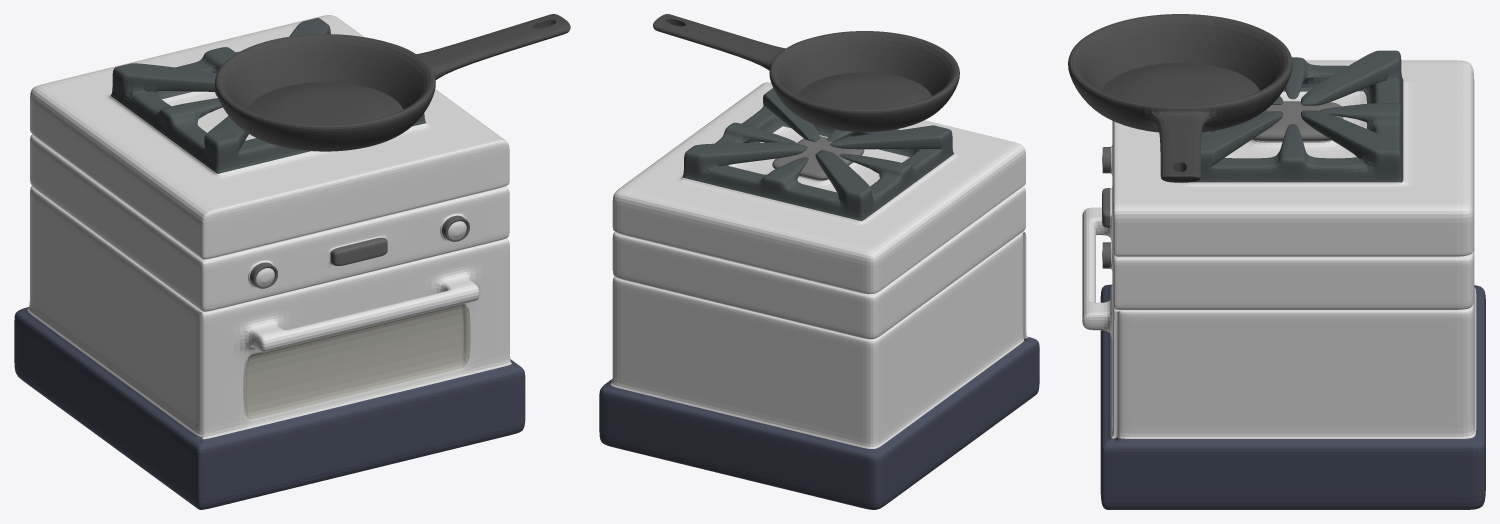
The model's file is Gas_range_frypan(ani).fbx.
3 renders of one model, left to right at view 1: azimuth 30°, elevation 25°; view 2: azimuth 150°, elevation 25°; view 3: azimuth 270°, elevation 25°, orthographic. The views are drawn at different scales.
Visible parts, largest first — view 1: 큐브.005, 원형.010; view 2: 큐브.005, 원형.010; view 3: 큐브.005, 원형.010.
Part boxes in pixels (left/top/right/bottom): 큐브.005: left=14, top=15, right=525, bottom=509; 원형.010: left=215, top=14, right=570, bottom=151; 큐브.005: left=599, top=82, right=1039, bottom=509; 원형.010: left=653, top=14, right=959, bottom=132; 큐브.005: left=1082, top=50, right=1485, bottom=509; 원형.010: left=1068, top=14, right=1292, bottom=182.
Bounding box in the file's own units: 388 × 338 × 342.
